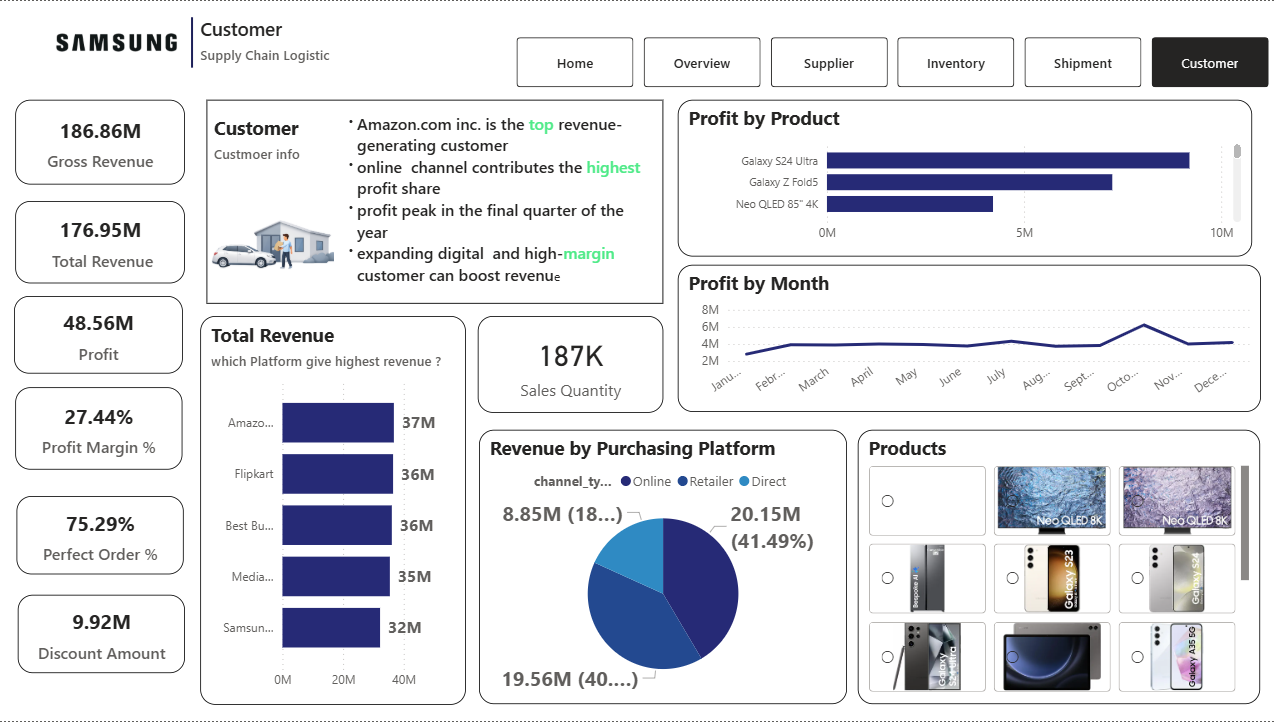

This screenshot's page, from the dashboard's own definition file:
{"tool":"powerbi","page":{"name":"Customer","canvas":[1280,720],"ordinal":5},"visuals":[{"type":"shape","title":"Customer","box":[201.7,15.3,235.1,71],"z":0},{"type":"image","box":[0,16.2,235,50],"z":1000},{"type":"pageNavigator","box":[517.3,36.7,753.3,50.1],"z":2000},{"type":"barChart","title":"Total Revenue ","fields":{"Y":["MeasuresTable.Total_Revenue"],"Category":["dim_customer.customer_name"]},"box":[201.4,314.5,265.2,388.4],"z":3000},{"type":"card","fields":{"Values":["MeasuresTable.Profit"]},"box":[15,295,168.8,77.5],"z":4000},{"type":"card","fields":{"Values":["MeasuresTable.Profit Margin %"]},"box":[16.7,386.8,167,82.1],"z":5000},{"type":"card","fields":{"Values":["MeasuresTable.Perfect_Order %"]},"box":[17.1,495.2,167.5,78.3],"z":6000},{"type":"card","fields":{"Values":["MeasuresTable.1 Total_Revenue"]},"box":[16.7,200.3,169.7,82.1],"z":7000},{"type":"card","fields":{"Values":["Sum(fact_sales.gross_revenue)"]},"box":[16.7,98.8,169.7,84.9],"z":8000},{"type":"card","fields":{"Values":["Sum(fact_sales.discount_amount)"]},"box":[18.3,594.3,167.5,78.3],"z":9000},{"type":"pieChart","title":"Revenue by Purchasing Platform","fields":{"Y":["Sum(fact_sales.profit)"],"Category":["dim_customer.channel_type"]},"box":[480.3,428.1,367.8,274.4],"z":10000},{"type":"lineChart","title":"Profit by Month","fields":{"Y":["MeasuresTable.Profit"],"Category":["dim_date.month_name"]},"box":[678.6,264.3,582.9,147.1],"z":11000},{"type":"barChart","title":"Profit by Product","fields":{"Category":["dim_product.product_name"],"Y":["Sum(fact_sales.profit)"]},"box":[678.6,98.6,574.3,157.1],"z":12000},{"type":"shape","box":[207.2,98.6,456.5,204.3],"z":13000},{"type":"image","box":[207.1,180,144.3,122.9],"z":14000},{"type":"shape","title":"Customer","box":[215,113.8,152.5,56.2],"z":15000},{"type":"card","fields":{"Values":["MeasuresTable.Total_Sales_Quantity"]},"box":[478.3,314.5,185.5,97.1],"z":16000},{"type":"advancedSlicerVisual","fields":{"Values":["dim_product.product_name"]},"box":[859,428.1,402.1,274.4],"z":17000},{"type":"textbox","box":[334.8,105.8,320.3,189.9],"z":18000},{"type":"shape","box":[16.9,15.7,351.1,50.7],"z":18001}]}

Visuals, with their boxes in screenshot pixels (x1, y1, x2, y2), scaled from the page's 1280x720 canvas onto the 1276x722 screenshot:
"Customer" shape: x1=201 y1=15 x2=435 y2=87
image: x1=0 y1=16 x2=234 y2=66
pageNavigator: x1=516 y1=37 x2=1267 y2=87
"Total Revenue " barChart: x1=201 y1=315 x2=465 y2=705
card - MeasuresTable.Profit: x1=15 y1=296 x2=183 y2=374
card - MeasuresTable.Profit Margin %: x1=17 y1=388 x2=183 y2=470
card - MeasuresTable.Perfect_Order %: x1=17 y1=497 x2=184 y2=575
card - MeasuresTable.1 Total_Revenue: x1=17 y1=201 x2=186 y2=283
card - Sum(fact_sales.gross_revenue): x1=17 y1=99 x2=186 y2=184
card - Sum(fact_sales.discount_amount): x1=18 y1=596 x2=185 y2=674
"Revenue by Purchasing Platform" pieChart: x1=479 y1=429 x2=845 y2=704
"Profit by Month" lineChart: x1=676 y1=265 x2=1258 y2=413
"Profit by Product" barChart: x1=676 y1=99 x2=1249 y2=256
shape: x1=207 y1=99 x2=662 y2=304
image: x1=206 y1=180 x2=350 y2=304
"Customer" shape: x1=214 y1=114 x2=366 y2=170
card - MeasuresTable.Total_Sales_Quantity: x1=477 y1=315 x2=662 y2=413
advancedSlicerVisual - dim_product.product_name: x1=856 y1=429 x2=1257 y2=704
textbox: x1=334 y1=106 x2=653 y2=297
shape: x1=17 y1=16 x2=367 y2=67
